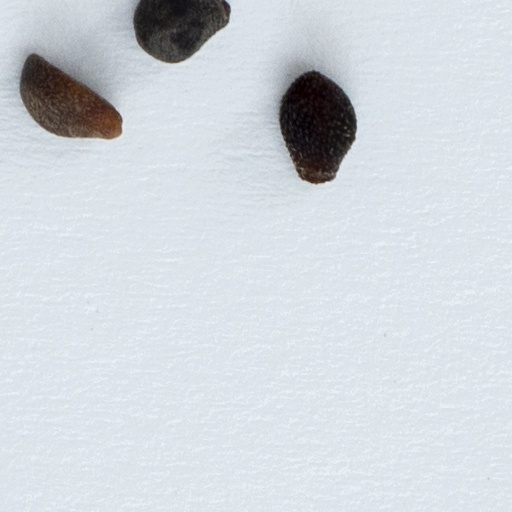Convolvulus-poly: (18, 45, 125, 139), (276, 64, 355, 184), (132, 0, 232, 66)
